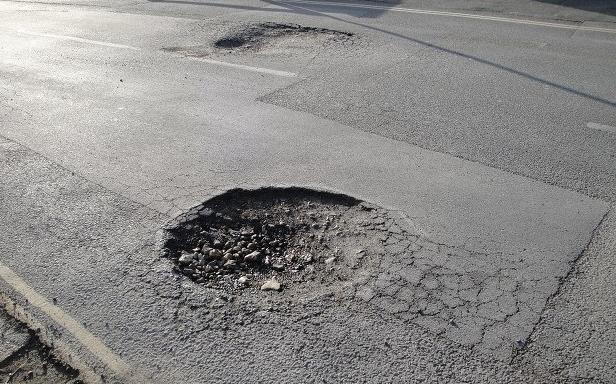pothole: (145, 150, 417, 316), (208, 16, 357, 66)
